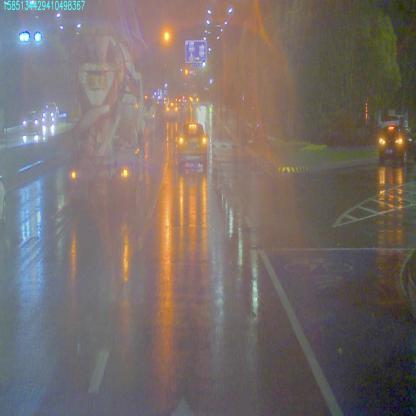traffic-light: (163, 26, 170, 38)
